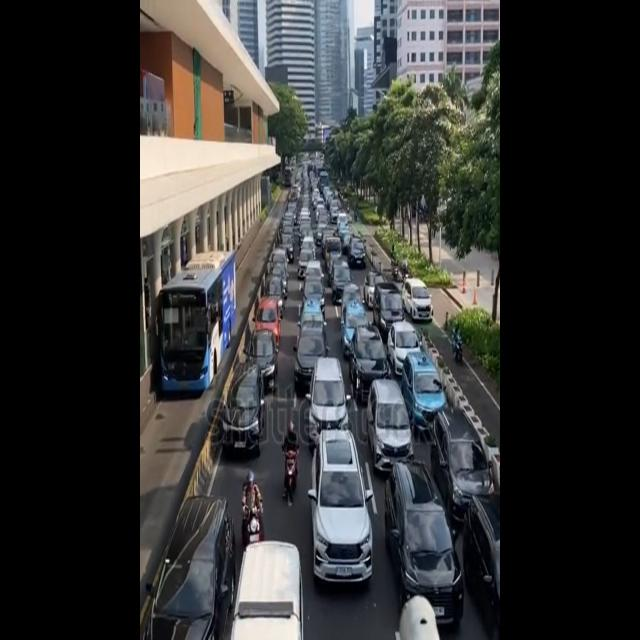Ambulance: (238, 545, 300, 640)
